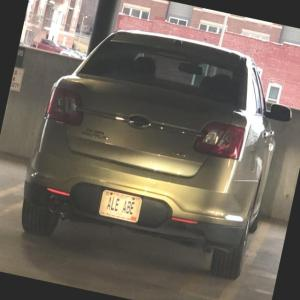Plate: (98, 189, 143, 223)
